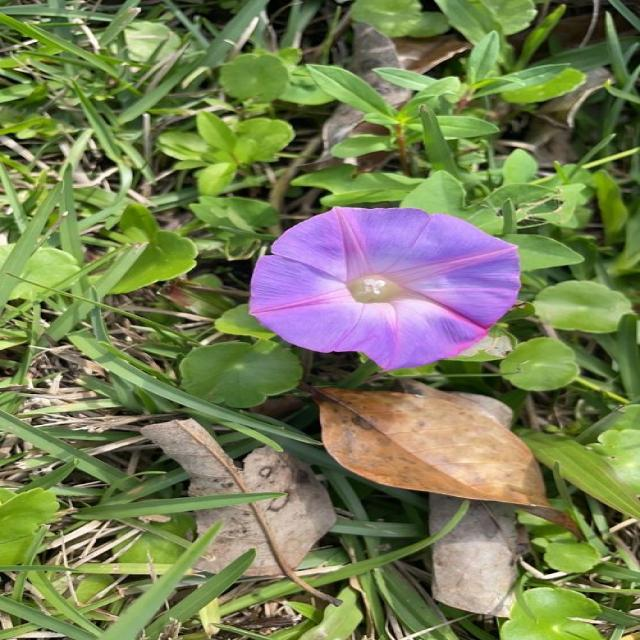ipomoea: (243, 204, 526, 374)
